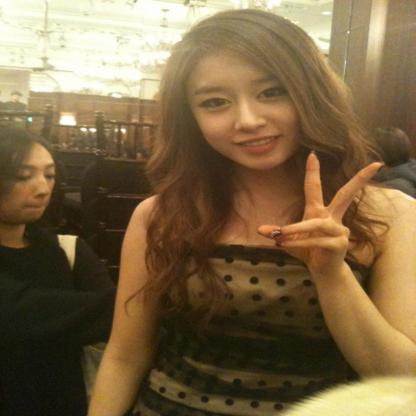face: (189, 58, 308, 171), (9, 146, 54, 223)
